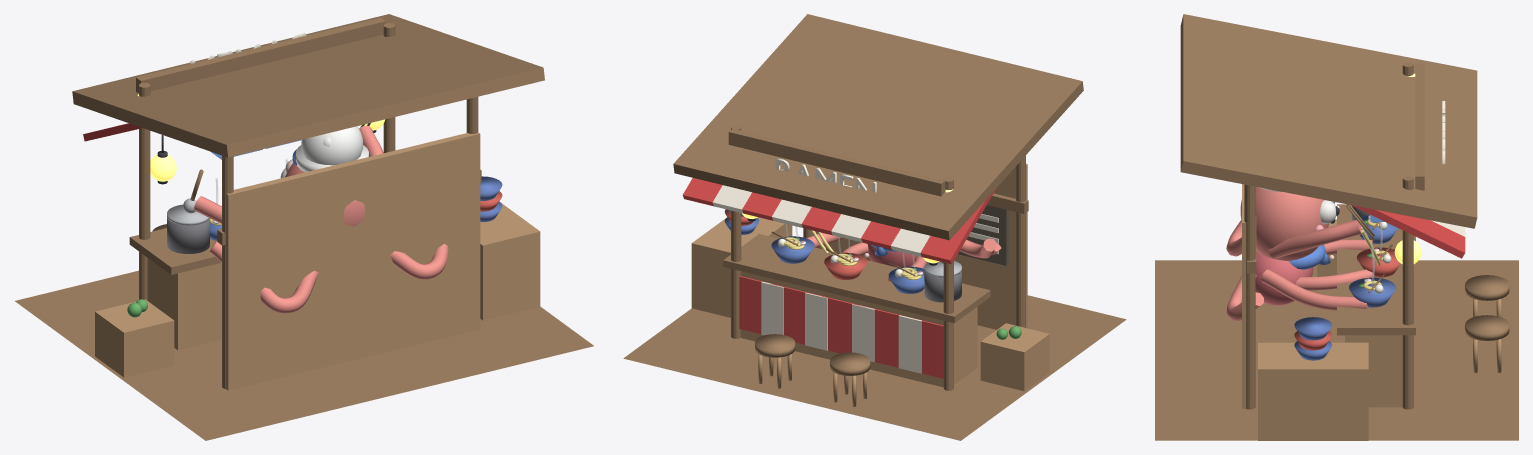
File: octopus-ramen-shop.glb
3 renders of one model, left to right at view 1: azimuth 30°, elevation 25°; view 2: azimuth 150°, elevation 25°; view 3: azimuth 270°, elevation 25°, orthographic. The views are drawn at different scales.
Visible parts, largest first — view 1: BackWall, RoofSlab, StallFloor, SideShelf, CounterBody, Crate, HeaderBoard, Post-1.71.0, CounterTop, HatPuff, StockPot, Post-1.7-1.0 (+6 smaller); view 2: RoofSlab, StallFloor, CounterTop, Banner, BackWall, SideShelf, CounterBody, HeaderBoard, Crate, Post-1.7-1.0, Post-1.71.0, Awning0 (+24 smaller); view 3: RoofSlab, StallFloor, SideShelf, CounterTop, OctoHead, CounterBody, Post1.7-1.0, Post1.71.0, Awning8, ArmRestR, ArmChop, OctoBody (+15 smaller).
Part boxes in pixels (bbox=[...]): BackWall: bbox=[226, 132, 480, 390]; RoofSlab: bbox=[72, 14, 544, 157]; StallFloor: bbox=[15, 270, 593, 440]; SideShelf: bbox=[480, 203, 540, 320]; CounterBody: bbox=[147, 258, 221, 350]; Crate: bbox=[95, 299, 174, 377]; HeaderBoard: bbox=[136, 17, 385, 92]; Post-1.71.0: bbox=[139, 83, 150, 300]; CounterTop: bbox=[129, 228, 221, 274]; HatPuff: bbox=[301, 126, 363, 165]; StockPot: bbox=[167, 216, 209, 253]; Post-1.7-1.0: bbox=[222, 155, 233, 388]; RoofSlab: bbox=[673, 14, 1083, 240]; StallFloor: bbox=[623, 295, 1126, 440]; CounterTop: bbox=[723, 234, 990, 323]; Banner: bbox=[739, 276, 943, 378]; BackWall: bbox=[812, 163, 1027, 329]; SideShelf: bbox=[691, 217, 792, 317]; CounterBody: bbox=[740, 271, 977, 387]; HeaderBoard: bbox=[728, 129, 945, 196]; Crate: bbox=[980, 323, 1049, 391]; Post-1.7-1.0: bbox=[1016, 155, 1025, 327]; Post-1.71.0: bbox=[943, 177, 953, 390]; Awning0: bbox=[920, 188, 996, 264]; RoofSlab: bbox=[1180, 14, 1477, 228]; StallFloor: bbox=[1155, 260, 1518, 440]; SideShelf: bbox=[1258, 342, 1368, 440]; CounterTop: bbox=[1337, 204, 1415, 335]; OctoHead: bbox=[1240, 187, 1328, 260]; CounterBody: bbox=[1345, 335, 1402, 407]; Post1.7-1.0: bbox=[1244, 184, 1255, 409]; Post1.71.0: bbox=[1402, 176, 1413, 409]; Awning8: bbox=[1351, 205, 1465, 258]; ArmRestR: bbox=[1261, 269, 1367, 310]; ArmChop: bbox=[1268, 219, 1363, 258]; OctoBody: bbox=[1255, 251, 1313, 305].
Size of what is drawn, in the model's own units: 5.4 by 3.67 by 4.6.
